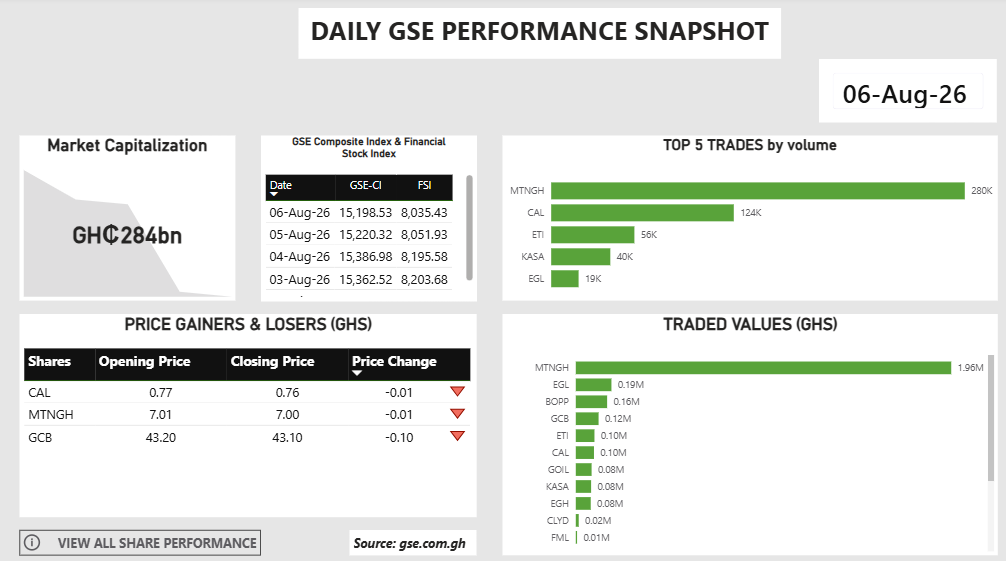

Layout of this report page (visuals, bound fields, positions):
{"tool":"powerbi","page":{"name":"Page 1","canvas":[1280,720],"ordinal":0},"visuals":[{"type":"cardVisual","fields":{"Data":["Max(Top5.NewDate)"]},"box":[1040,80,224,80],"z":0},{"type":"tableEx","title":"PRICE GAINERS & LOSERS (GHS)","fields":{"Values":["Table 1.Share_Code","Sum(Table 1.Opening_Price)","Sum(Table 1.Closing_Price)","Sum(Table 1.Price_Change)"]},"box":[32,400,576,256],"z":1000},{"type":"barChart","title":"TRADED VALUES (GHS)","fields":{"Category":["Table 1.Share_Code"],"Y":["Sum(Table 1.Value_Traded)"]},"box":[640,400,624,304],"z":2000},{"type":"textbox","box":[384,16,608,64],"z":3000},{"type":"clusteredBarChart","title":"TOP 5 TRADES by volume","fields":{"Category":["Top5.Share_Code"],"Y":["Sum(Top5.Shares_Traded)"]},"box":[640,176,624,208],"z":4000},{"type":"kpi","title":"Market Capitalization","fields":{"Indicator":["Sum(Table 2.Market Cap)"],"TrendLine":["Table 2.Date"]},"box":[32,176,272,208],"z":5000},{"type":"tableEx","title":"GSE Composite Index & Financial Stock Index","fields":{"Values":["Table 2.Date","Table 2.GSE-CI","Sum(Table 2.FSI)"]},"box":[336,176,272,208],"z":6000},{"type":"actionButton","box":[32,672,304,32],"z":8000},{"type":"textbox","box":[448,672,160,32],"z":8001}]}

Visuals, with their boxes in screenshot pixels (x1, y1, x2, y2), scaled from the page's 1280x720 canvas onto the 1006x561 screenshot:
cardVisual - Max(Top5.NewDate): (x1=817, y1=62, x2=993, y2=125)
"PRICE GAINERS & LOSERS (GHS)" tableEx: (x1=25, y1=312, x2=478, y2=511)
"TRADED VALUES (GHS)" barChart: (x1=503, y1=312, x2=993, y2=549)
textbox: (x1=302, y1=12, x2=780, y2=62)
"TOP 5 TRADES by volume" clusteredBarChart: (x1=503, y1=137, x2=993, y2=299)
"Market Capitalization" kpi: (x1=25, y1=137, x2=239, y2=299)
"GSE Composite Index & Financial Stock Index" tableEx: (x1=264, y1=137, x2=478, y2=299)
actionButton: (x1=25, y1=524, x2=264, y2=549)
textbox: (x1=352, y1=524, x2=478, y2=549)
